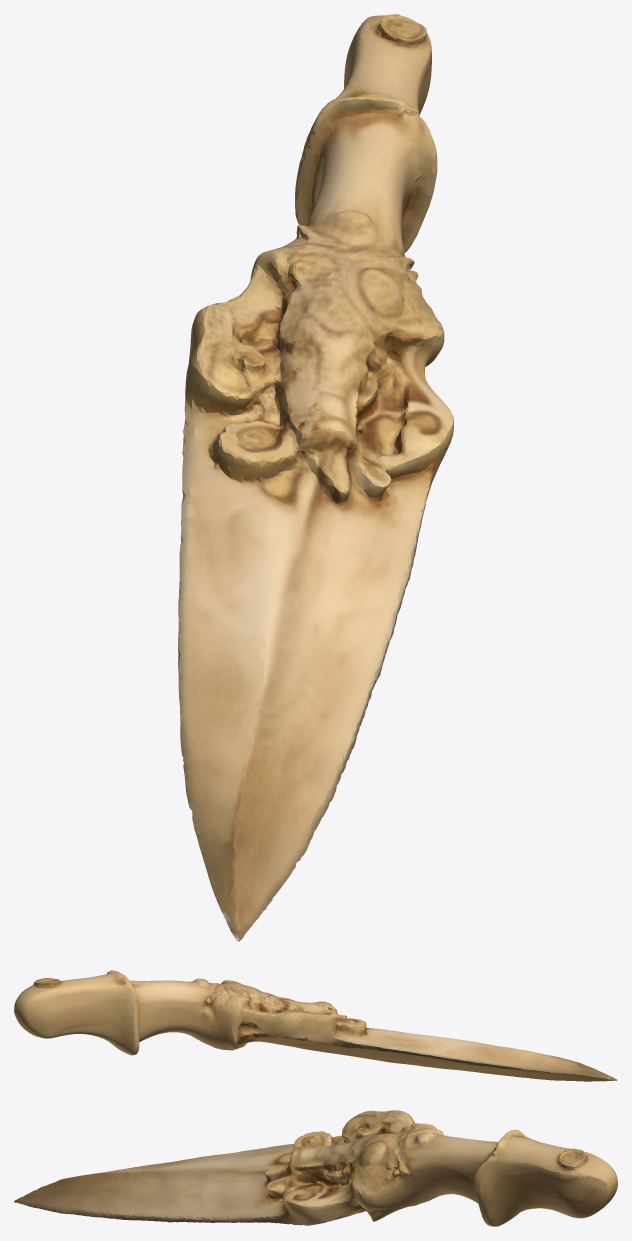
3 renders of one model, top to bottom at view 1: azimuth 30°, elevation 25°; view 2: azimuth 150°, elevation 25°; view 3: azimuth 270°, elevation 25°, orthographic. The views are drawn at different scales.
Visible parts, largest first — view 1: 058; view 2: 058; view 3: 058.
Part boxes in pixels (x1,y1,x2,y2): 058: (178,14,453,941); 058: (14,970,617,1081); 058: (14,1110,617,1226).
Bounding box in the file's own units: 1.43 × 0.7991 × 1.9.
Materials: 1 (1 with a texture image).
